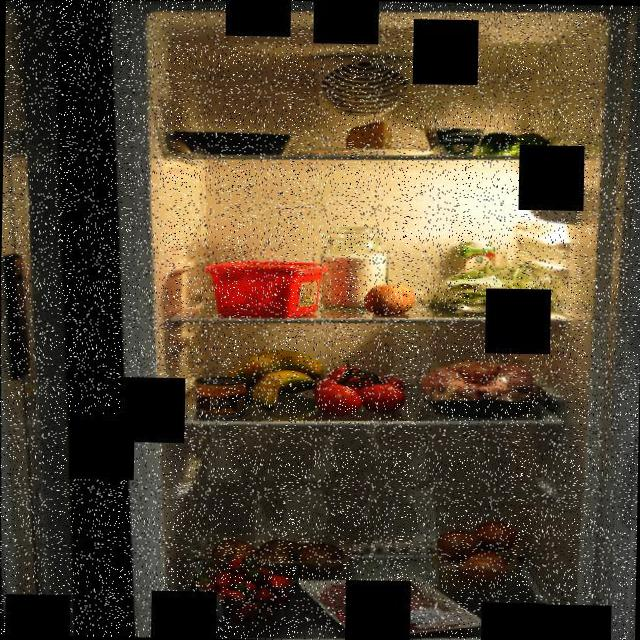Carne cerdo: (308, 576, 449, 638)
Carne pollo: (416, 354, 550, 420)
Cebolla: (434, 514, 530, 594)
Mantequilla: (205, 257, 328, 320)
Patata: (206, 532, 358, 578)
Plátano: (232, 342, 330, 413)
Queso: (342, 118, 396, 154)
Tomate: (312, 357, 406, 418)
